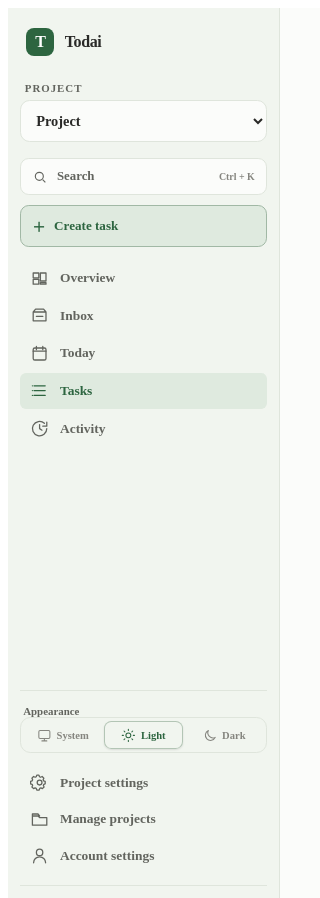
Test case: AppShell › keeps the saved appearance selected when the sidebar update fails
The width and height of the screenshot is (320, 898).
Click the button with aria-label "Use dark appearance" at (224, 735), box [185,721,263,750]
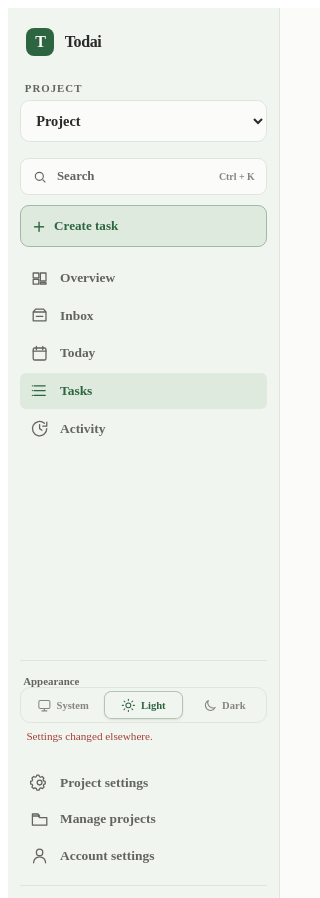
Check: the message reads "Settings changed elsewhere.", box [26,730,153,742]
